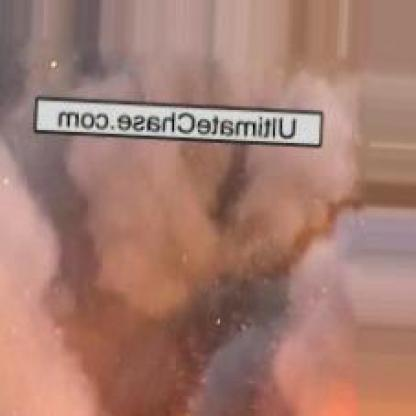smoke: (24, 134, 388, 396), (57, 17, 364, 102)
